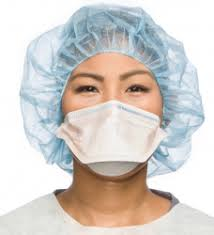mask: (45, 23, 180, 184)
